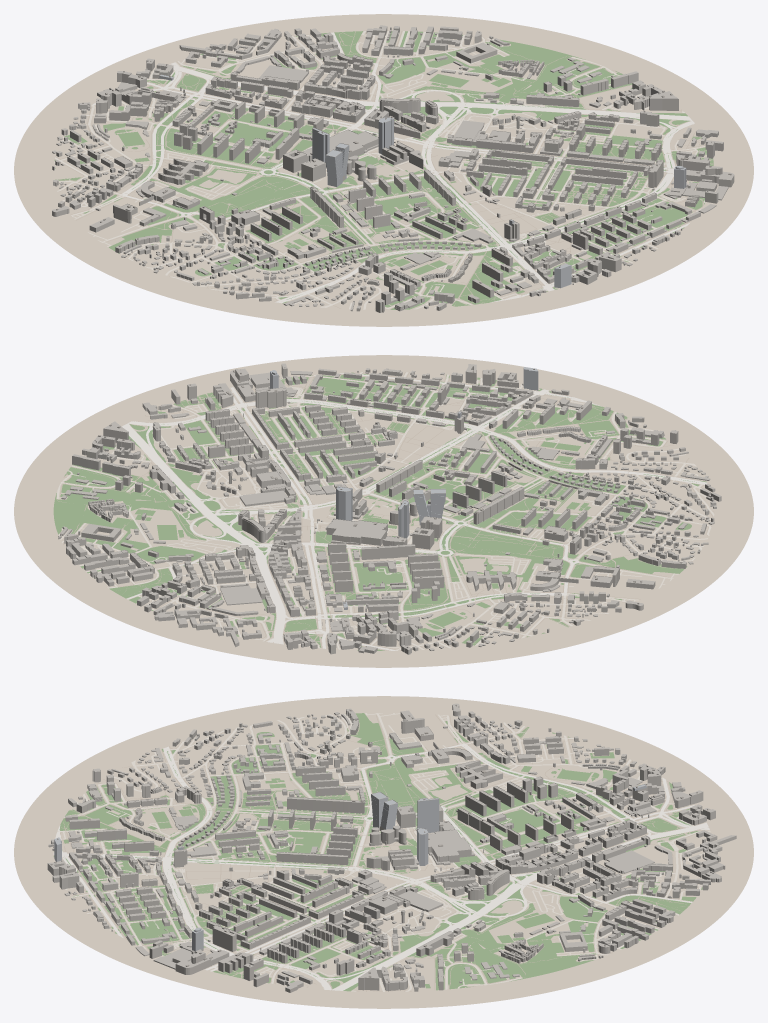
Rendered from context.glb.
The picture shows the model from 3 angles, top to bottom: view 1: azimuth 30°, elevation 25°; view 2: azimuth 150°, elevation 25°; view 3: azimuth 270°, elevation 25°; orthographic projection.
Parts seen in each view (by area): view 1: ground, neighbours, parks, streets_minor, paths, roofkit, streets_major, towers, plant; view 2: ground, neighbours, parks, streets_minor, paths, roofkit, streets_major, towers, plant; view 3: neighbours, ground, parks, streets_minor, paths, roofkit, streets_major, towers, plant.
Boxes of the visible parts, <box> form: ground: <box>14,14,753,326</box>; neighbours: <box>52,25,734,312</box>; parks: <box>54,31,713,309</box>; streets_minor: <box>54,31,705,309</box>; paths: <box>54,31,713,309</box>; roofkit: <box>101,46,663,282</box>; streets_major: <box>92,32,694,303</box>; towers: <box>159,74,686,288</box>; plant: <box>56,31,731,284</box>; ground: <box>14,355,753,667</box>; neighbours: <box>58,363,721,654</box>; parks: <box>53,372,706,650</box>; streets_minor: <box>57,372,714,650</box>; paths: <box>57,372,714,650</box>; roofkit: <box>101,385,666,626</box>; streets_major: <box>122,373,707,650</box>; towers: <box>270,367,538,609</box>; plant: <box>67,367,682,647</box>; neighbours: <box>47,703,736,992</box>; ground: <box>14,696,753,1008</box>; parks: <box>53,713,702,991</box>; streets_minor: <box>57,713,710,991</box>; paths: <box>53,714,709,991</box>; roofkit: <box>103,726,665,966</box>; streets_major: <box>53,743,709,991</box>; towers: <box>54,784,646,951</box>; plant: <box>50,704,708,982</box>.
Size of the model in its own units: 2240 by 111 by 2240.
